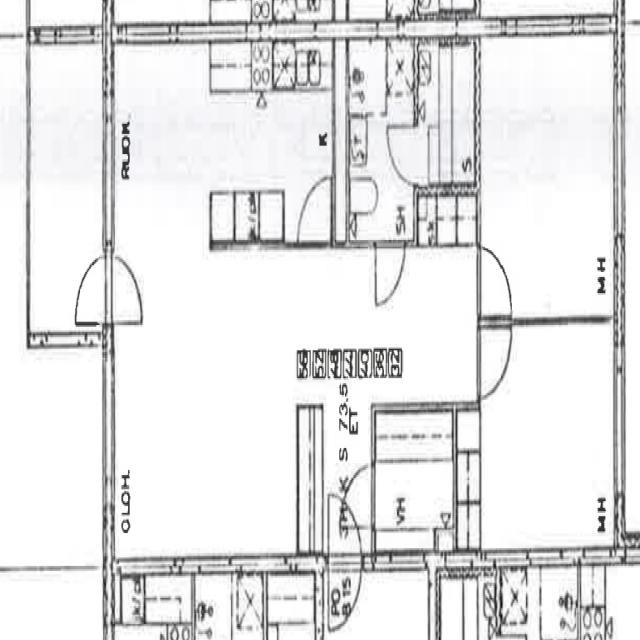door: (328, 483, 361, 570), (104, 257, 146, 325), (328, 551, 361, 637), (71, 257, 112, 325), (477, 329, 515, 401), (476, 246, 514, 314), (298, 170, 331, 246), (341, 465, 376, 527), (375, 238, 404, 306), (387, 127, 418, 183)
